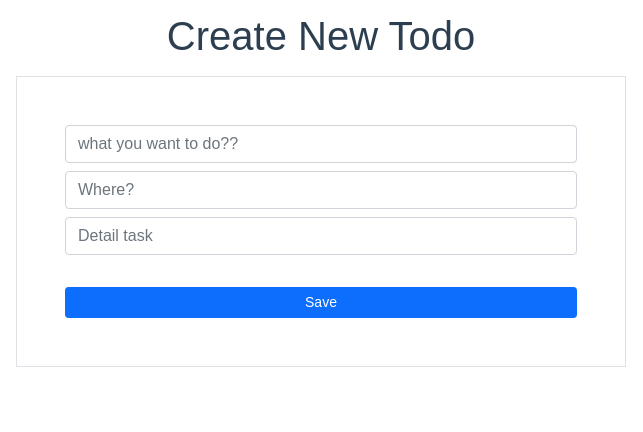
Test: NewTodo Page › show error message if failed save data
This screenshot has width=643, height=432.
Type "mandi" into the field with placeholder "what you want to do??" at (321,144), box [65, 125, 577, 163]
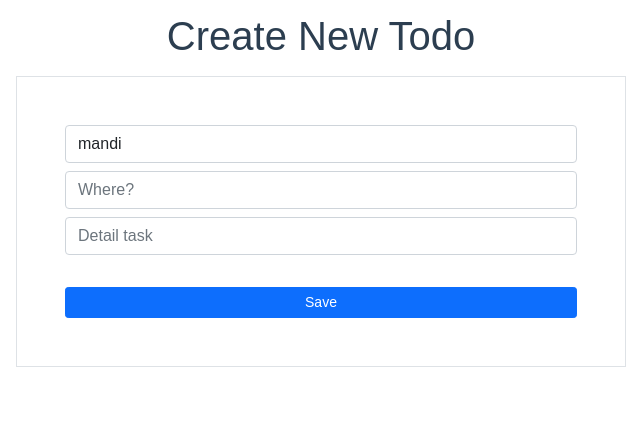
Type "Kamar Mandi" into the field with placeholder "Where?" at (321,190), box [65, 171, 577, 209]
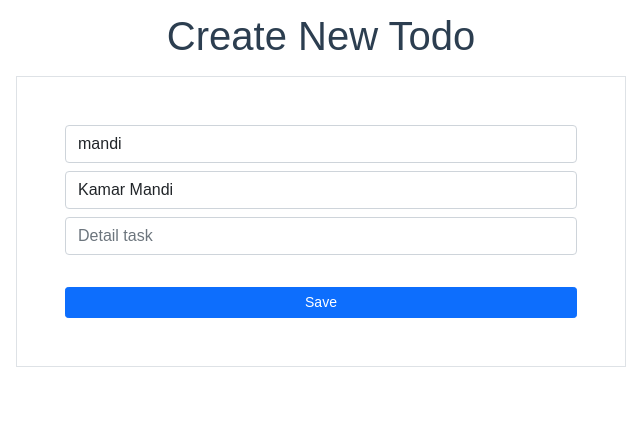
Type "bersihin badan biar wangi" into the field with placeholder "Detail task" at (321,236), box [65, 217, 577, 255]
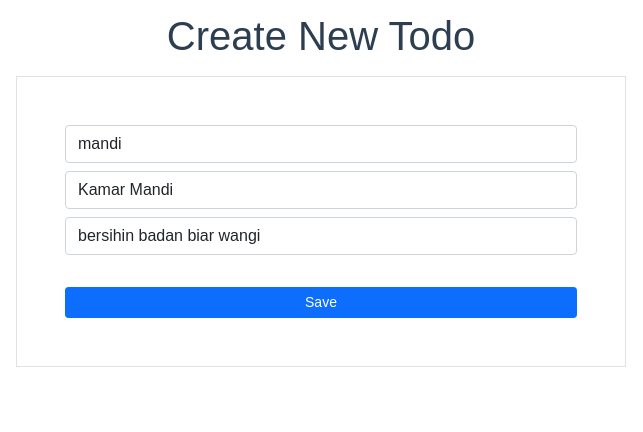
Click the button "Save" at (321,302), box [65, 287, 577, 318]
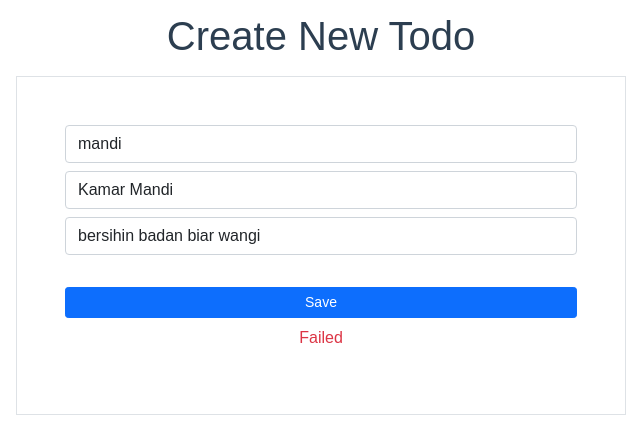
Now the text "Failed" is shown, box [299, 329, 343, 346]
